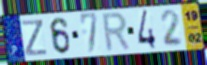2: (160, 9, 185, 48)
4: (135, 8, 159, 51)
6: (48, 16, 72, 56)
7: (78, 11, 99, 57)
R: (101, 11, 133, 54)
Z: (20, 18, 49, 58)
